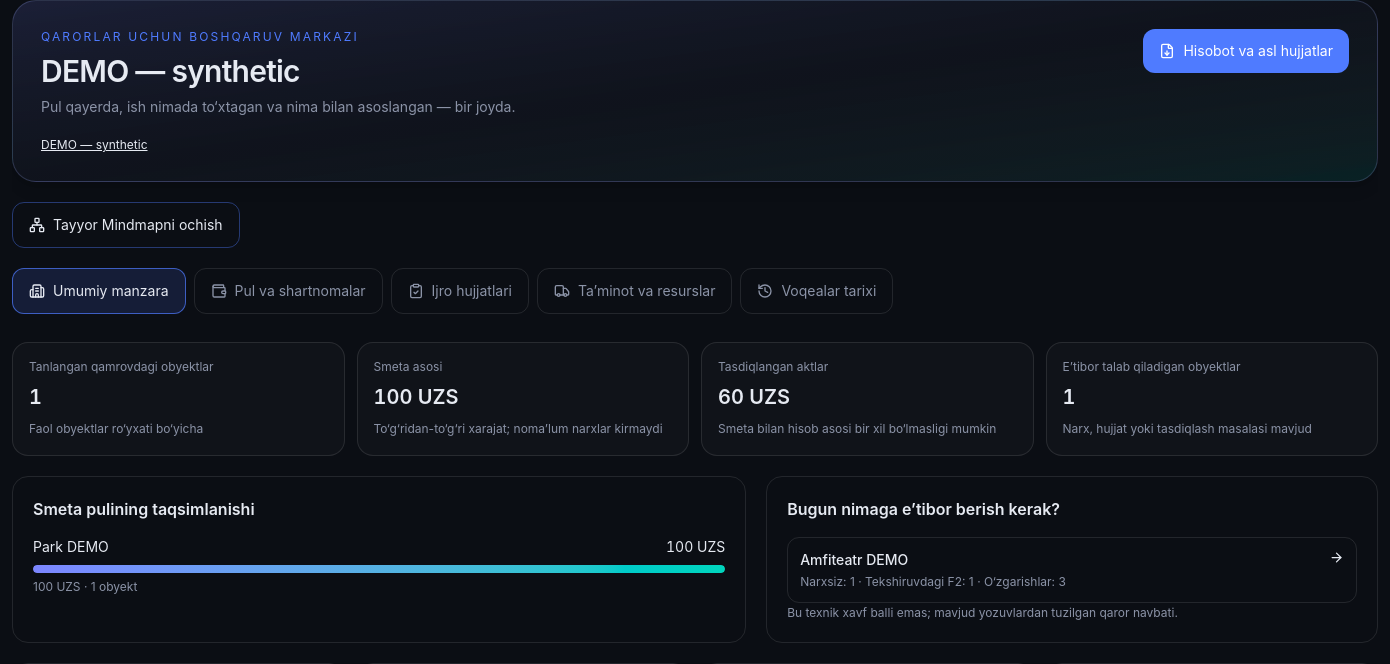
Test case: executive cockpit drilldown › failed accounting never shows previously cached financial amounts
Click the tab "Pul va shartnomalar" at (288, 291), box left=194, top=268, right=383, bottom=314
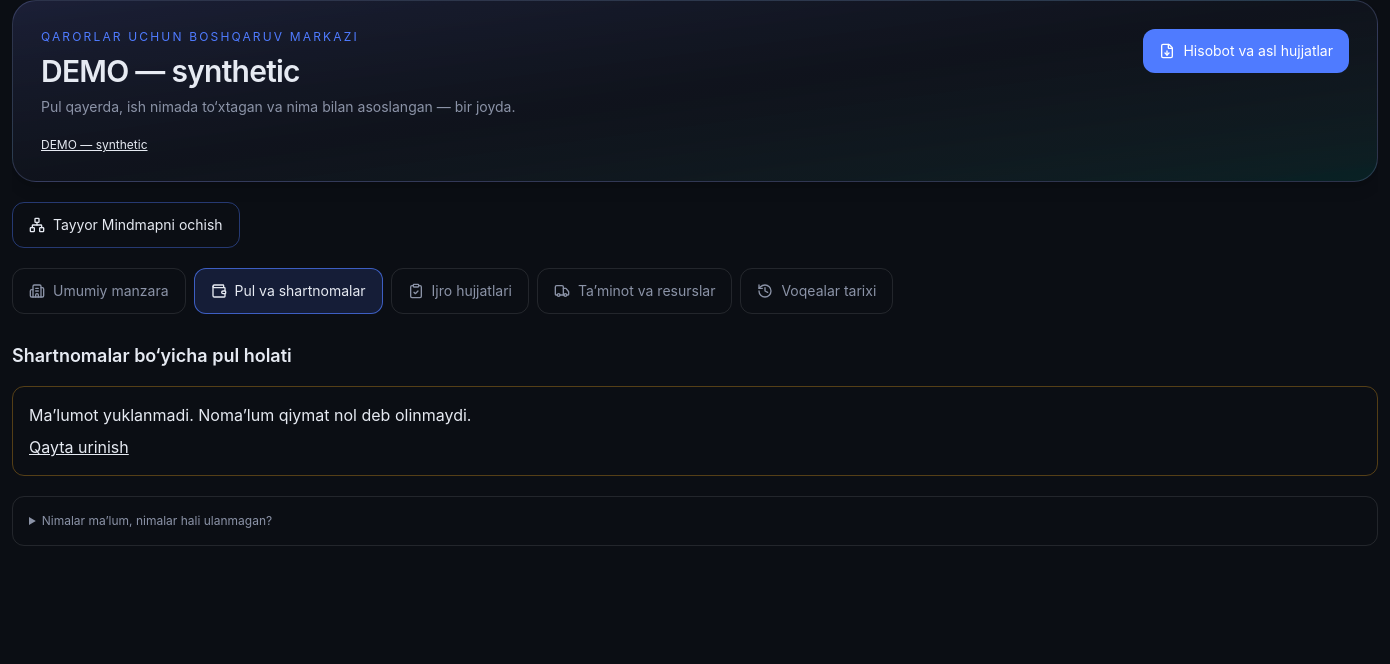
expect the message "Ma’lumot yuklanmadi. Noma’lum qiymat nol deb olinmaydi. Qayta urinish" is shown: met, box left=12, top=386, right=1378, bottom=476
